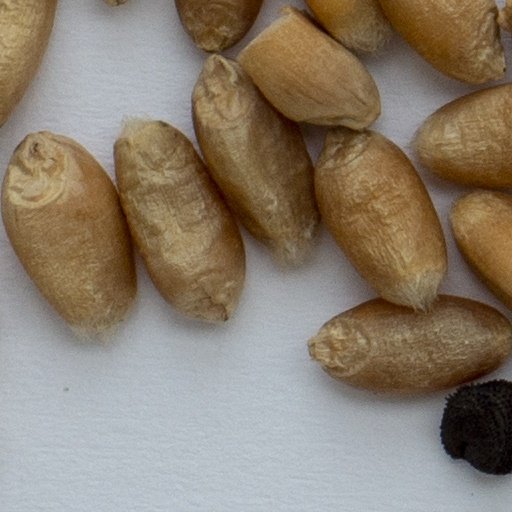Agrostemma-poly: (438, 379, 511, 476)
